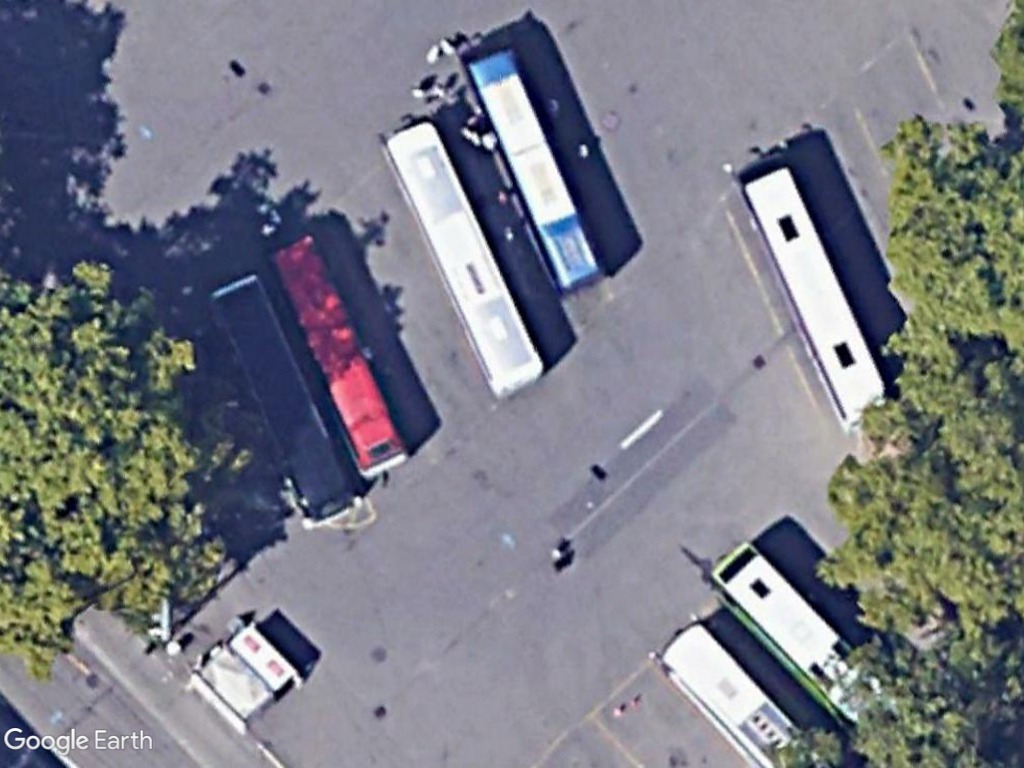bus: (378, 116, 550, 402), (734, 164, 889, 426), (266, 229, 412, 482), (463, 44, 606, 295)
